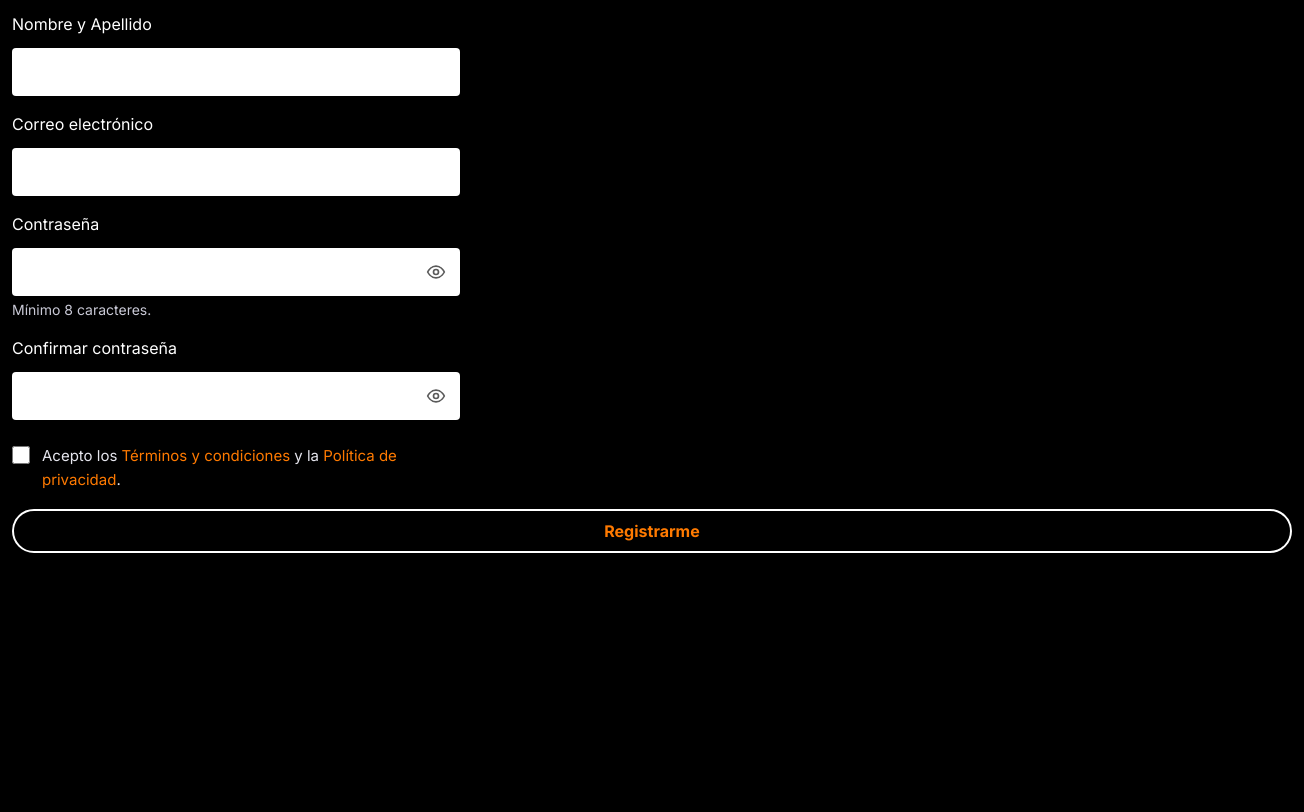
Test case: RegisterForm › shows EMAIL_TAKEN under the email field with a recovery link and no resend
Type "Ana Pérez" into the field labelled "Nombre y Apellido" at (236, 72), box 12,48 -> 460,96
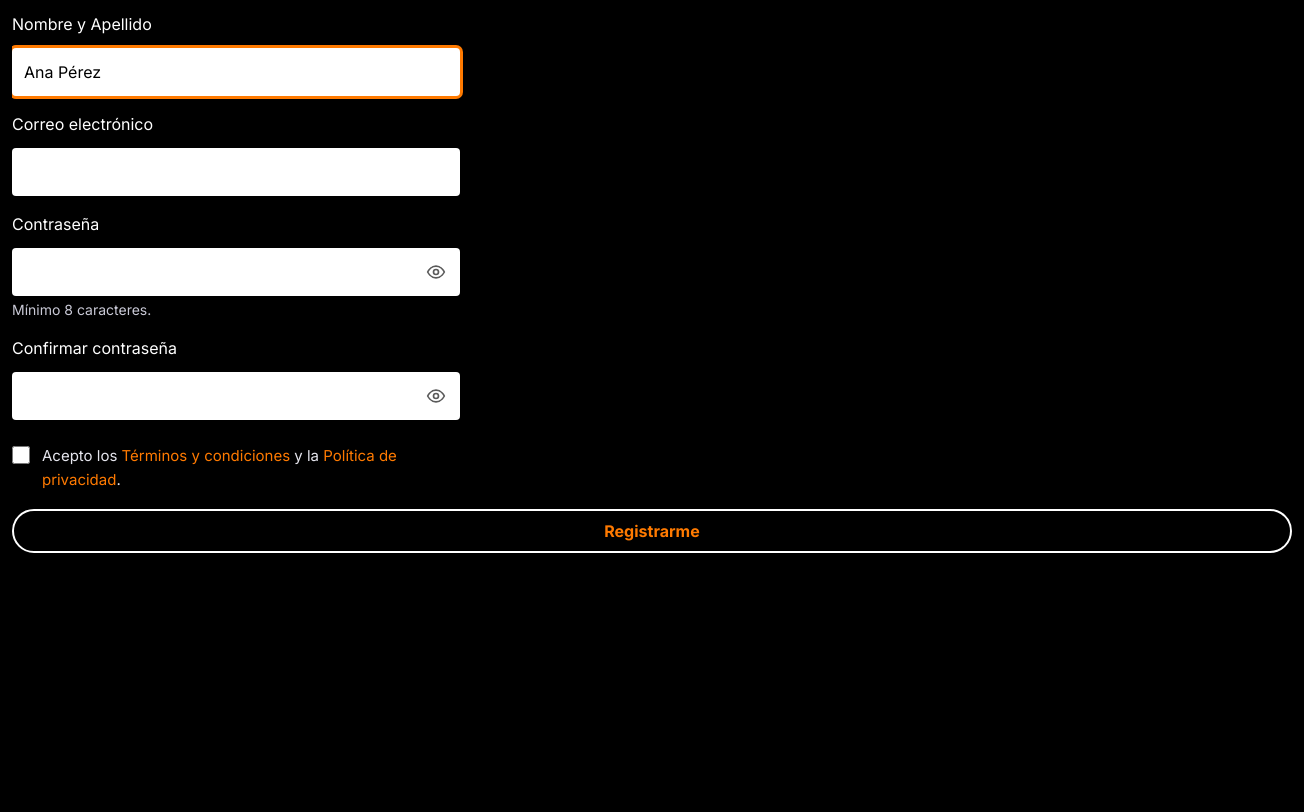
Type "ana@example.com" into the field labelled "Correo electrónico" at (236, 172), box 12,148 -> 460,196
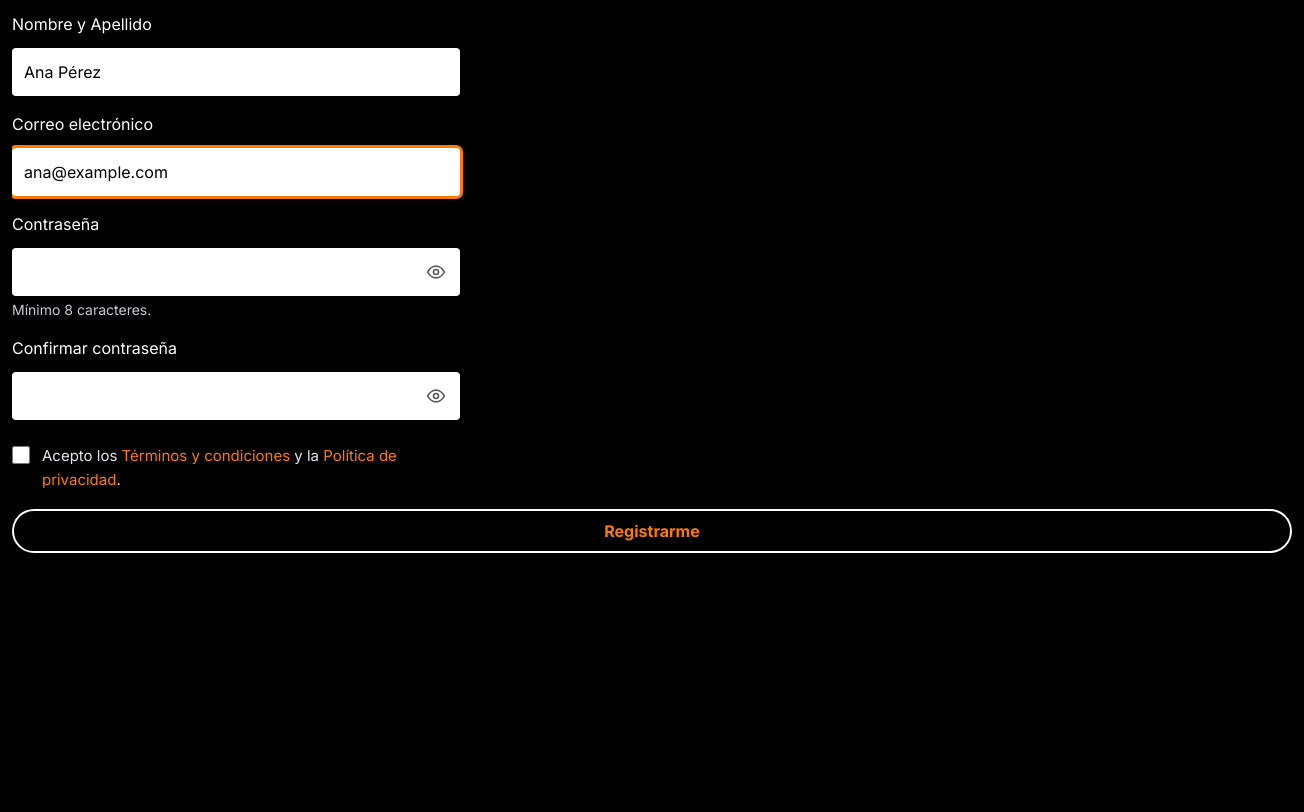
Type "unaclavesegura" into the password field labelled "Contraseña" at (236, 272), box 12,248 -> 460,296
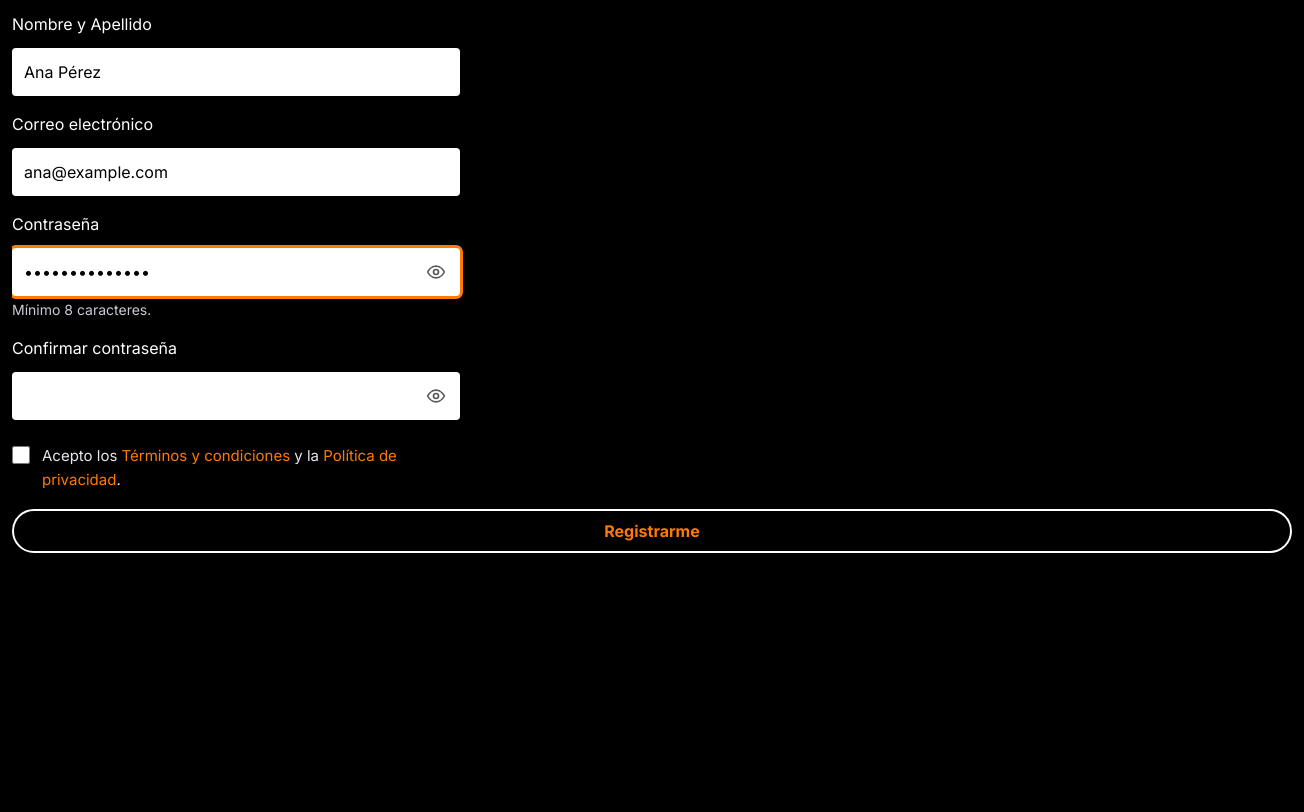
Type "unaclavesegura" into the password field labelled "Confirmar contraseña" at (236, 396), box 12,372 -> 460,420
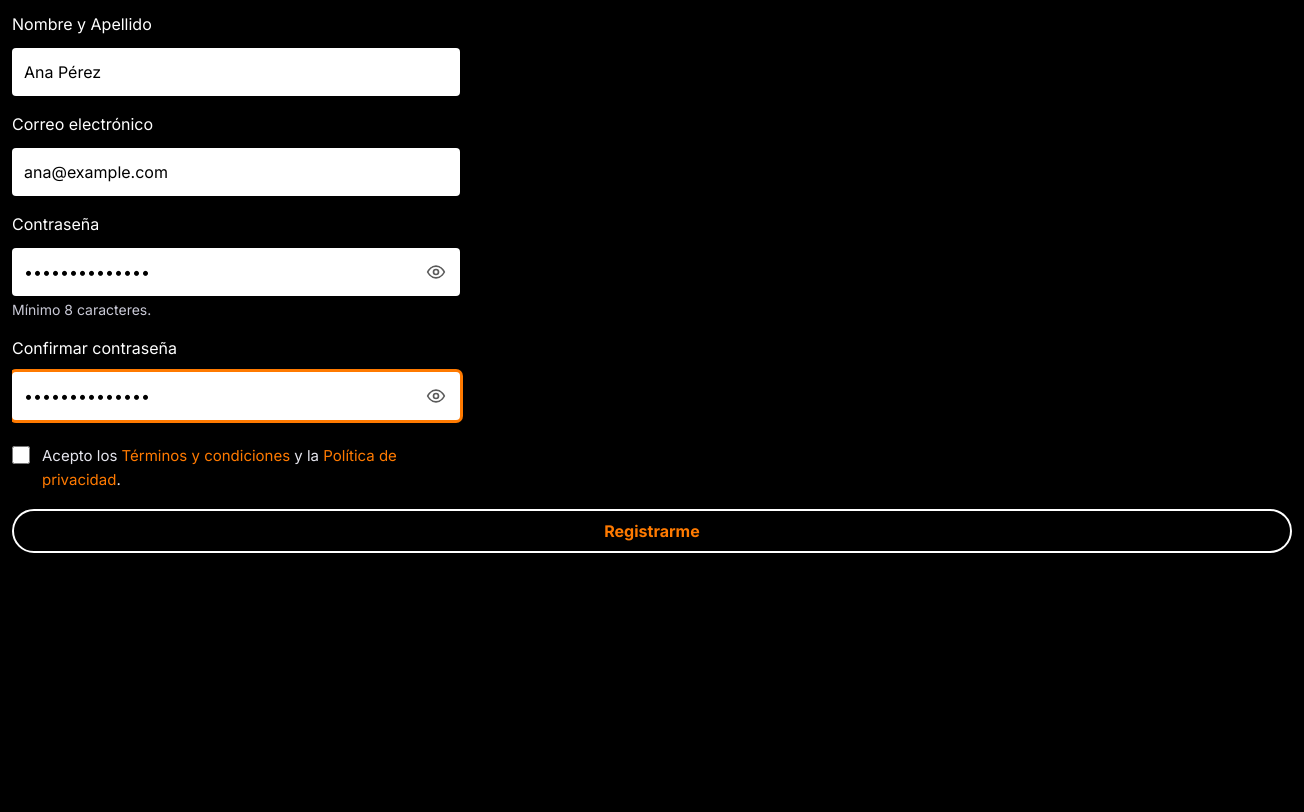
Click the checkbox at (21, 455), box 12,446 -> 30,464
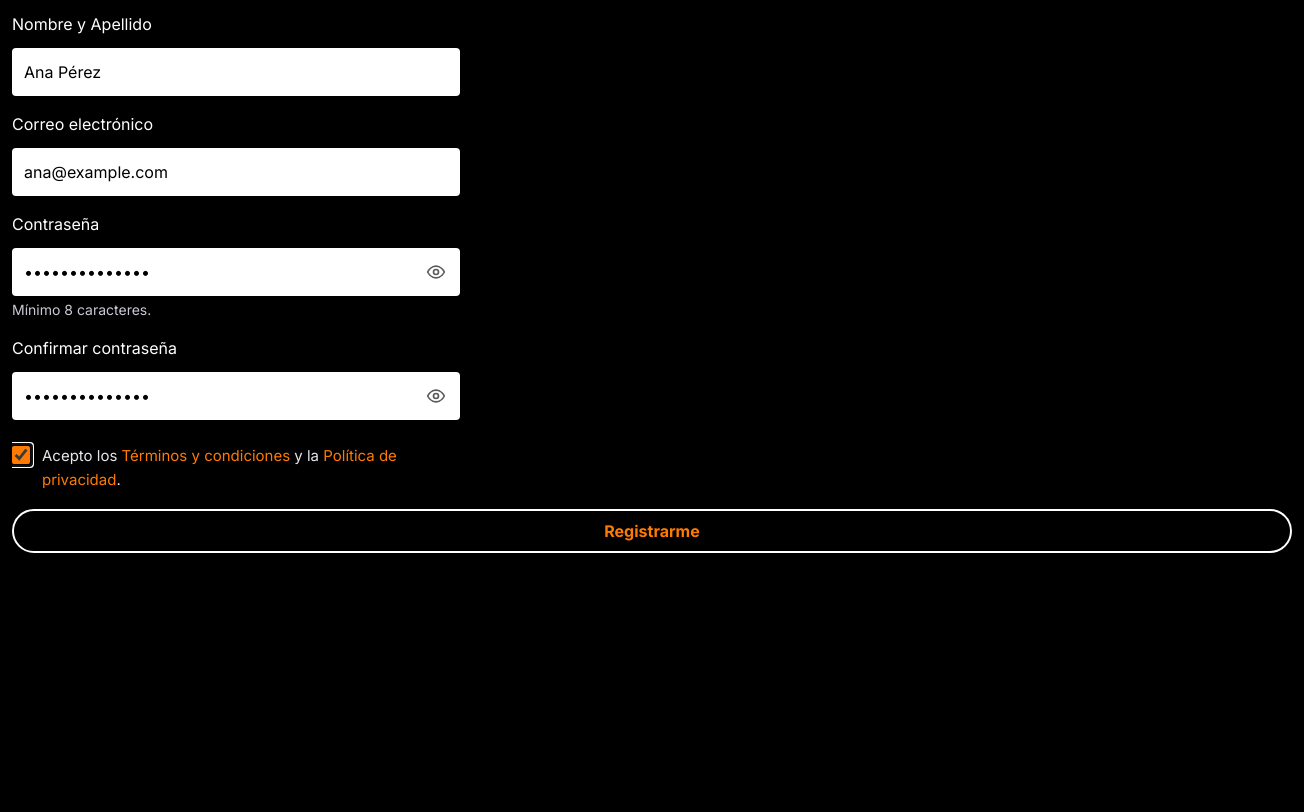
Click the button "Registrarme" at (652, 531), box 12,509 -> 1292,553
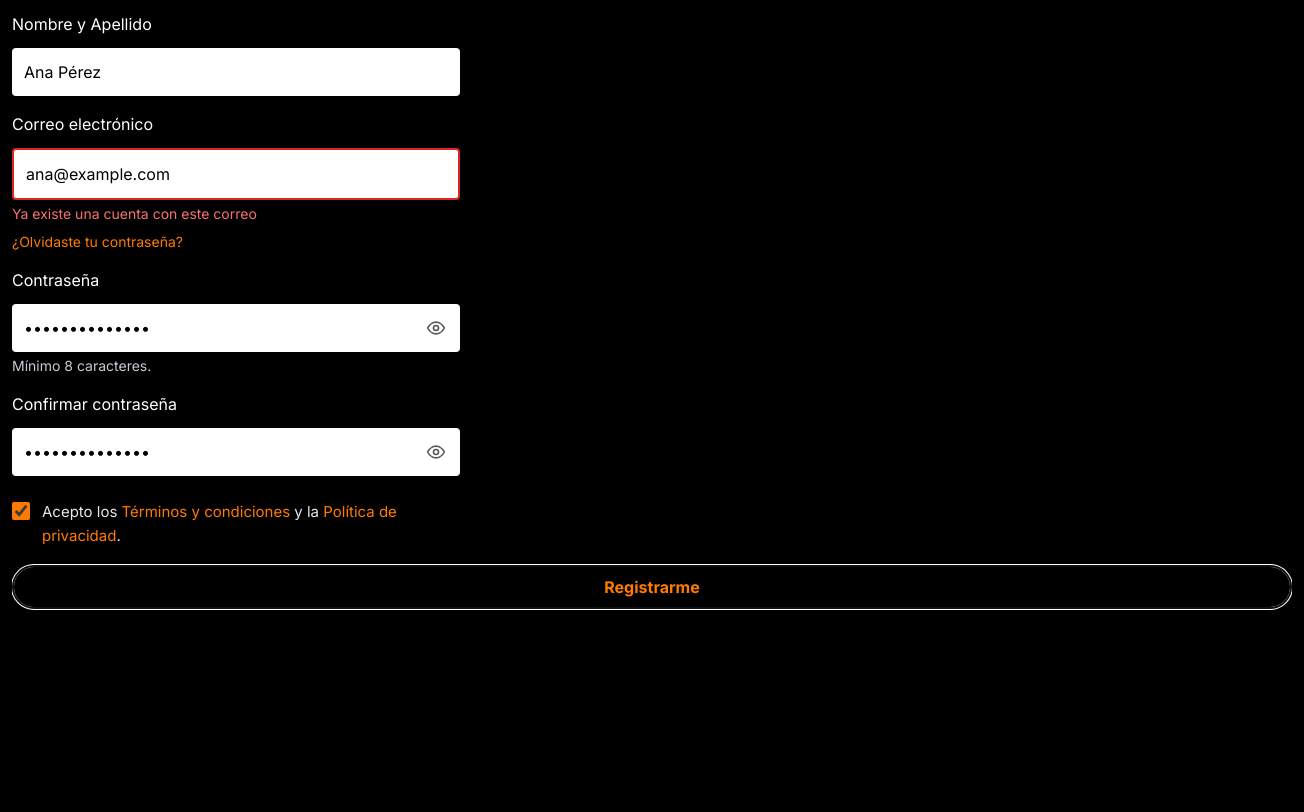
Now the text "Ya existe una cuenta con este correo" is shown, box 12,205 -> 257,222
